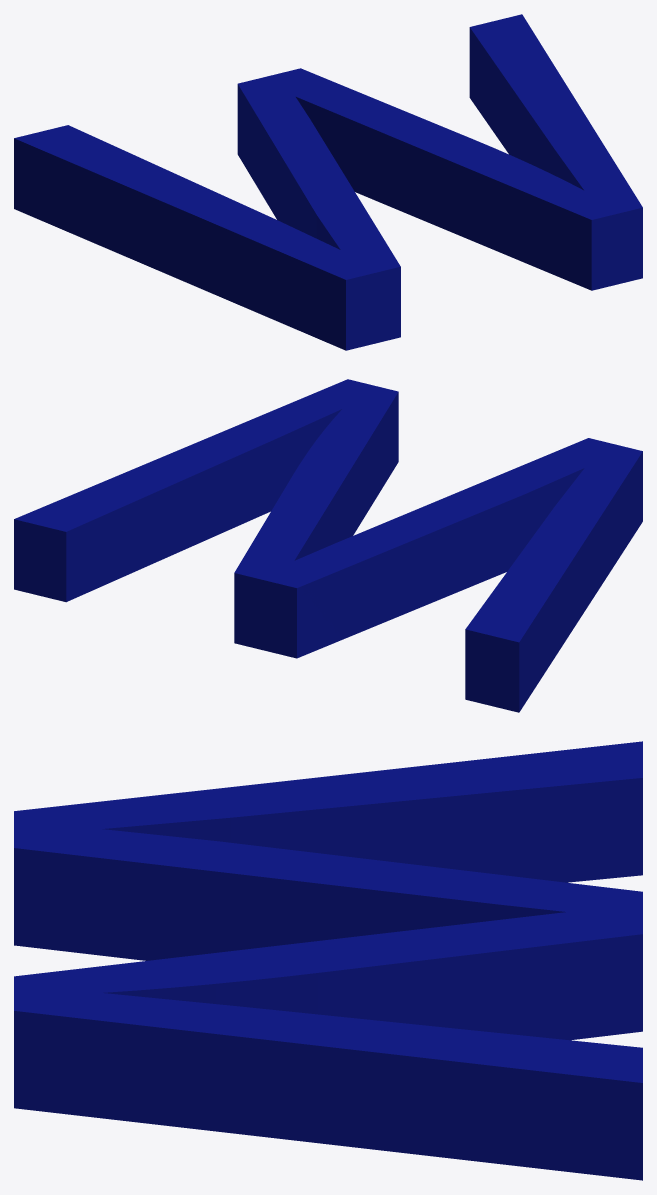
The picture shows the model from 3 angles, top to bottom: view 1: azimuth 30°, elevation 25°; view 2: azimuth 150°, elevation 25°; view 3: azimuth 270°, elevation 25°; orthographic projection. The views are drawn at different scales.
Parts seen in each view (by area): view 1: TextPlus023; view 2: TextPlus023; view 3: TextPlus023.
Boxes of the visible parts, left/top/right/bottom form: TextPlus023: left=14, top=14, right=642, bottom=350; TextPlus023: left=14, top=379, right=642, bottom=712; TextPlus023: left=14, top=741, right=642, bottom=1180.
Size of the model in its own units: 32.96 by 4.38 by 25.64.
